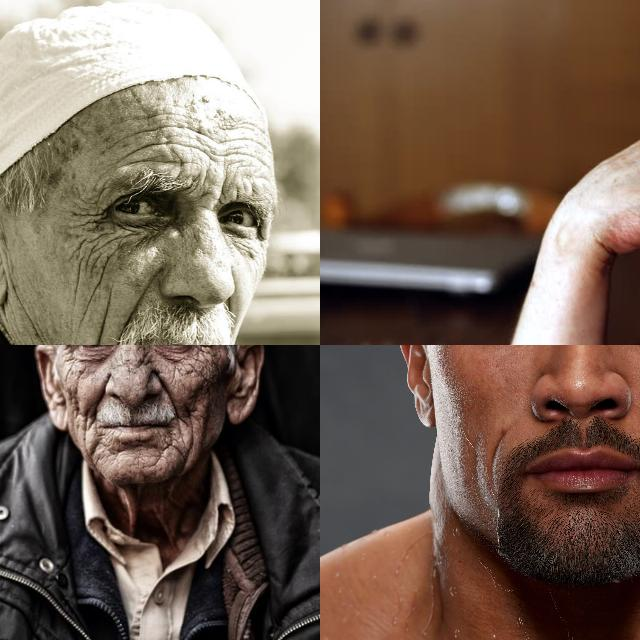bunny_line: (132, 346, 158, 368)
chin: (80, 430, 102, 462), (154, 439, 176, 463)
crows_feet: (79, 200, 113, 240), (195, 345, 217, 360)
forehead: (130, 122, 170, 166), (189, 122, 227, 158), (237, 146, 267, 168)
frown_line: (194, 176, 226, 207)
gummy_smile: (128, 268, 160, 320), (157, 372, 179, 410), (88, 384, 114, 416)
masseter: (70, 246, 106, 306), (180, 424, 202, 460), (87, 319, 107, 345)
sad_smile: (486, 434, 508, 486), (107, 325, 124, 345)
